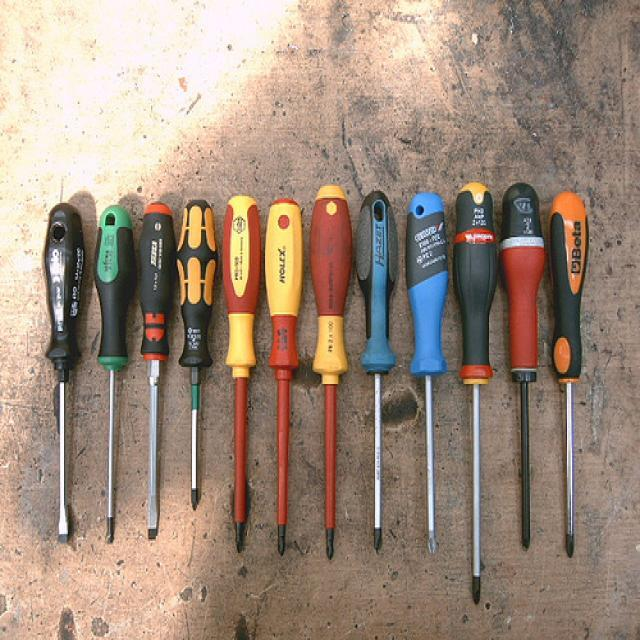screwdriver: (450, 172, 506, 610), (542, 180, 601, 558), (350, 175, 406, 566), (401, 180, 458, 564), (256, 189, 313, 561), (37, 195, 94, 549), (306, 180, 358, 566), (496, 176, 548, 560), (215, 188, 265, 561), (87, 197, 139, 550), (174, 182, 222, 524), (136, 192, 178, 550)
